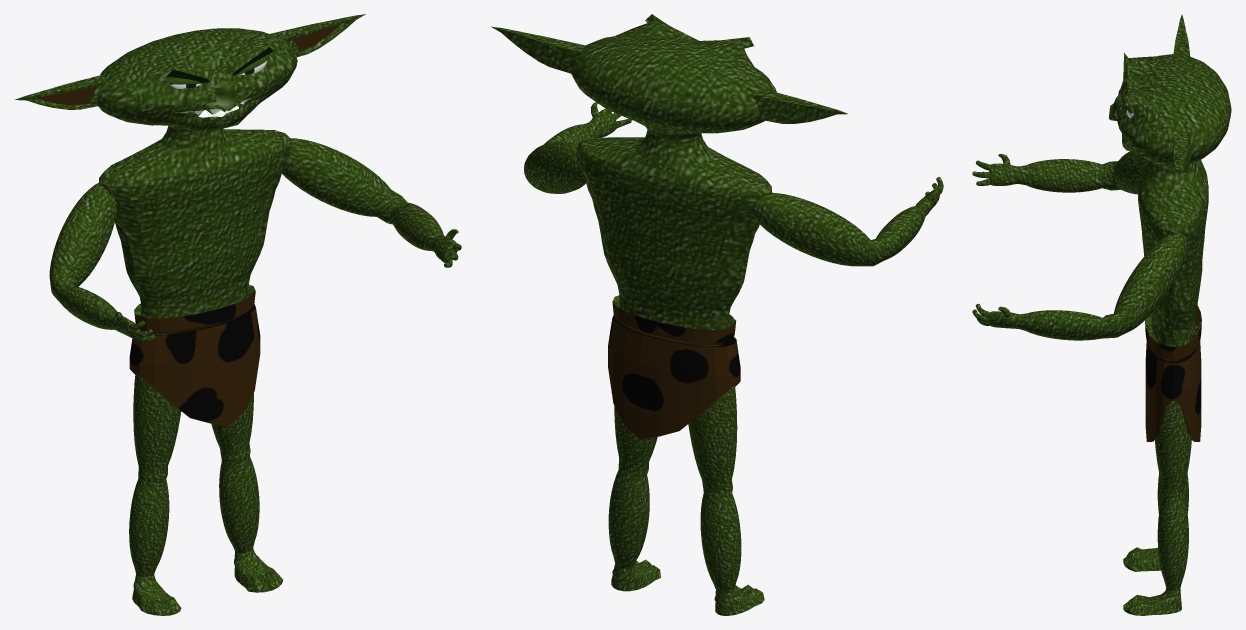
Rendered from goblin.fbx.
The picture shows the model from 3 angles, left to right: view 1: azimuth 30°, elevation 25°; view 2: azimuth 150°, elevation 25°; view 3: azimuth 270°, elevation 25°; orthographic projection. The views are drawn at different scales.
Visible parts, largest first — view 1: pasted__pSphere3; view 2: pasted__pSphere3; view 3: pasted__pSphere3.
Boxes of the visible parts, x1,y1,x2,y2 form: pasted__pSphere3: [15, 14, 461, 615]; pasted__pSphere3: [491, 14, 943, 615]; pasted__pSphere3: [972, 14, 1231, 615].
Size of the model in its own units: 3.64 by 5.34 by 2.44.
Materials: 1 (1 with a texture image).
